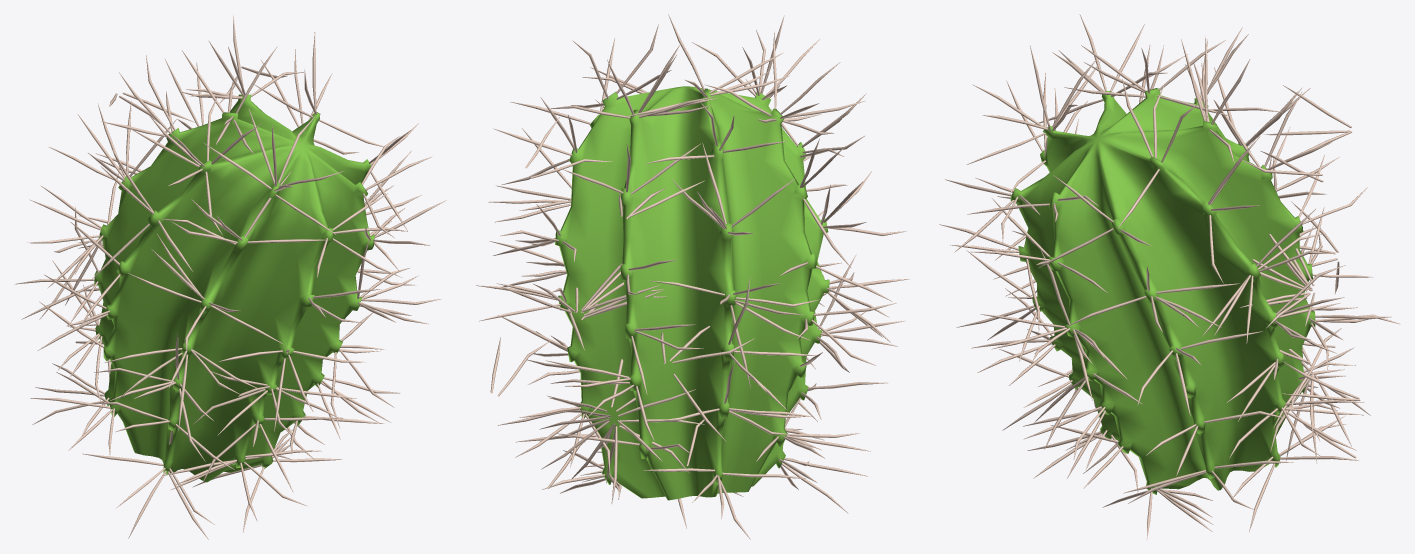
The picture shows the model from 3 angles, left to right: view 1: azimuth 30°, elevation 25°; view 2: azimuth 150°, elevation 25°; view 3: azimuth 270°, elevation 25°; orthographic projection. The views are drawn at different scales.
Parts seen in each view (by area): view 1: Cactus.002; view 2: Cactus.002; view 3: Cactus.002.
Boxes of the visible parts, x1,y1,x2,y2 form: Cactus.002: [14, 14, 446, 539]; Cactus.002: [476, 14, 909, 539]; Cactus.002: [939, 14, 1400, 539].
Size of the model in its own units: 1.05 by 1.23 by 1.06.
